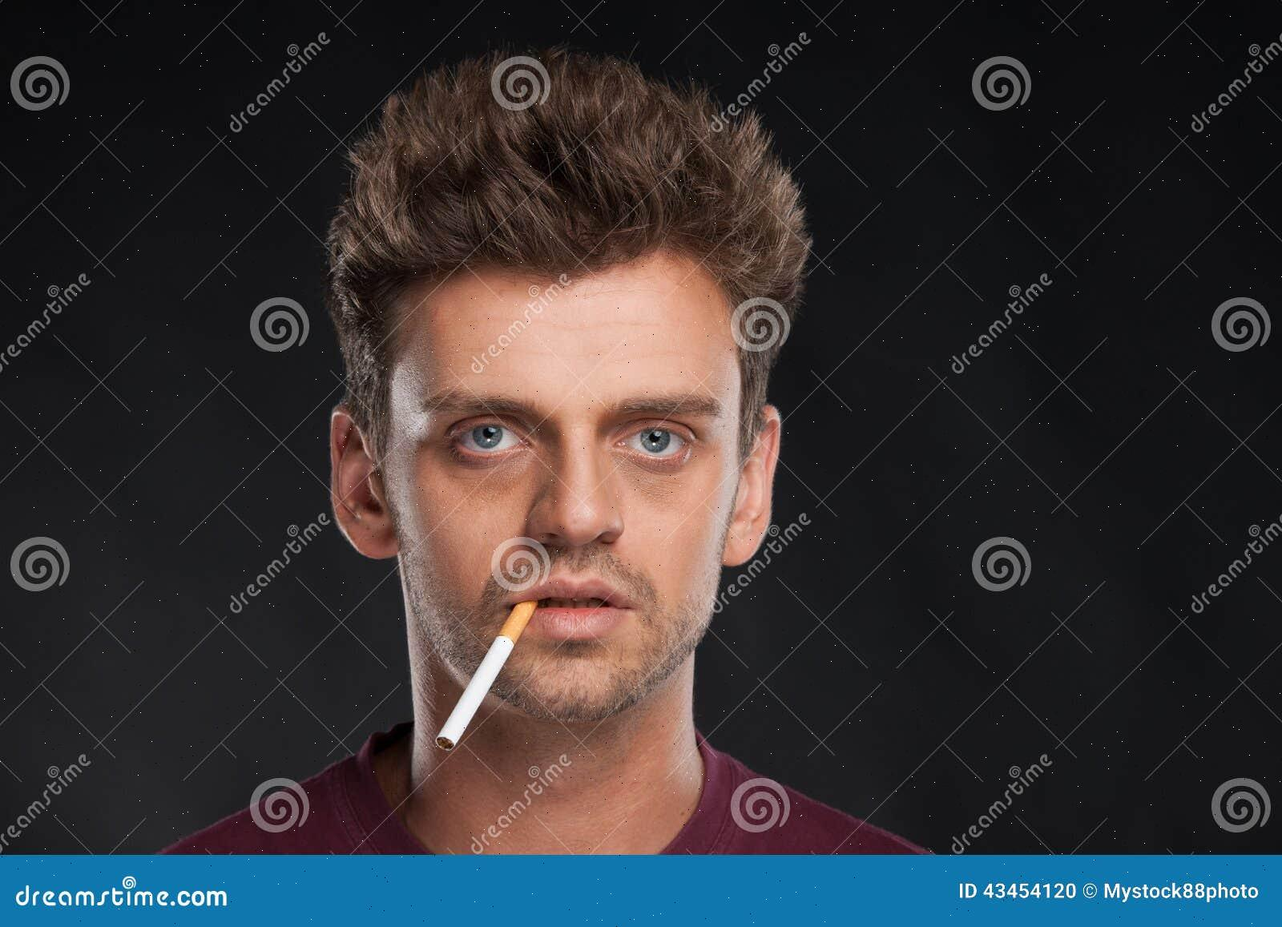cigarette: (436, 601, 536, 750)
